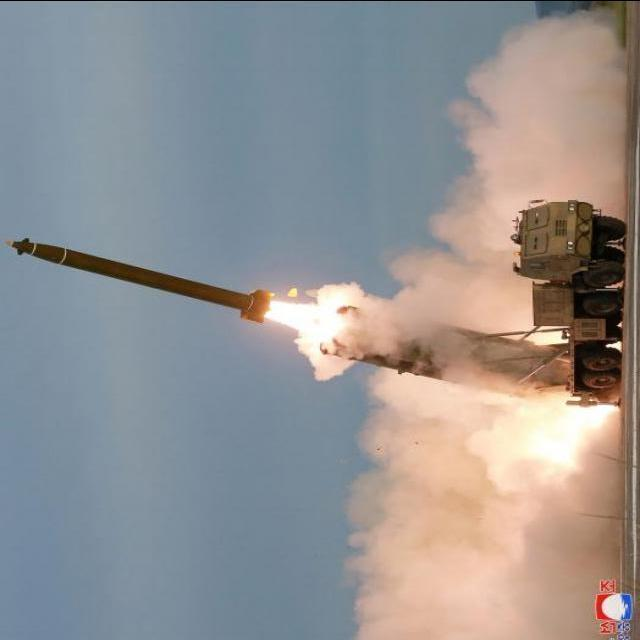missile: (2, 230, 272, 324)
